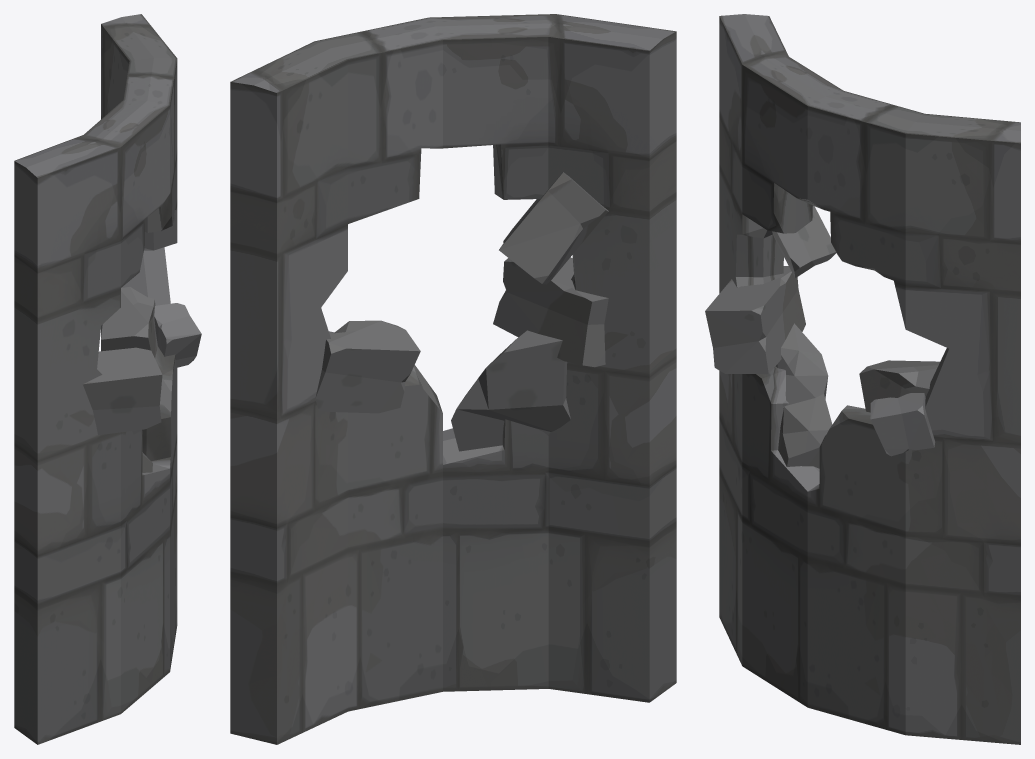
The model's file is SM_Bld_Wall_L_Curve_Damaged_01.fbx.
The picture shows the model from 3 angles, left to right: view 1: azimuth 30°, elevation 25°; view 2: azimuth 150°, elevation 25°; view 3: azimuth 270°, elevation 25°; orthographic projection. The views are drawn at different scales.
Parts seen in each view (by area): view 1: SM_Bld_Wall_L_Curve_Damaged_01; view 2: SM_Bld_Wall_L_Curve_Damaged_01; view 3: SM_Bld_Wall_L_Curve_Damaged_01.
Part boxes in pixels (box(x1,y1,x2,y2)): SM_Bld_Wall_L_Curve_Damaged_01: box(14, 14, 201, 744); SM_Bld_Wall_L_Curve_Damaged_01: box(230, 14, 676, 744); SM_Bld_Wall_L_Curve_Damaged_01: box(705, 14, 1020, 744).
Size of the model in its own units: 272 by 602 by 286.
